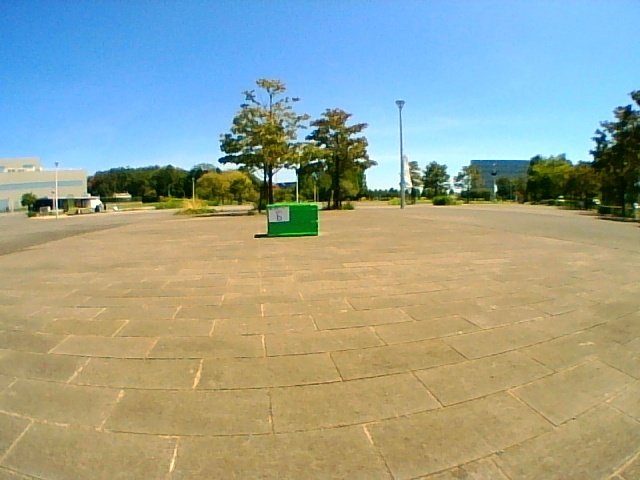green_box: (267, 203, 318, 235)
tag_b: (269, 207, 288, 221)
